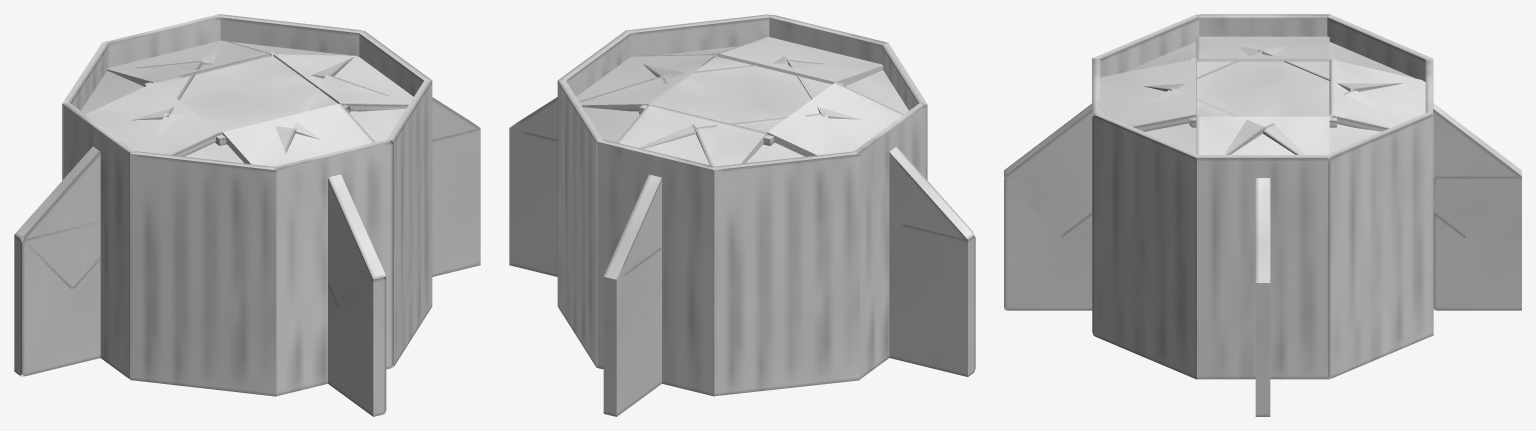
File: trunk.obj
3 views of the same model, side by side, from view 1: azimuth 30°, elevation 25°; view 2: azimuth 150°, elevation 25°; view 3: azimuth 270°, elevation 25° (orthographic). The views are drawn at different scales.
Visible parts, largest first — view 1: Rocket; view 2: Rocket; view 3: Rocket.
Boxes of the visible parts, x1,y1,x2,y2 form: Rocket: (14, 14, 480, 416); Rocket: (509, 14, 975, 416); Rocket: (1004, 14, 1521, 416).
Bounding box in the file's own units: 4.38 × 2.06 × 4.38.
